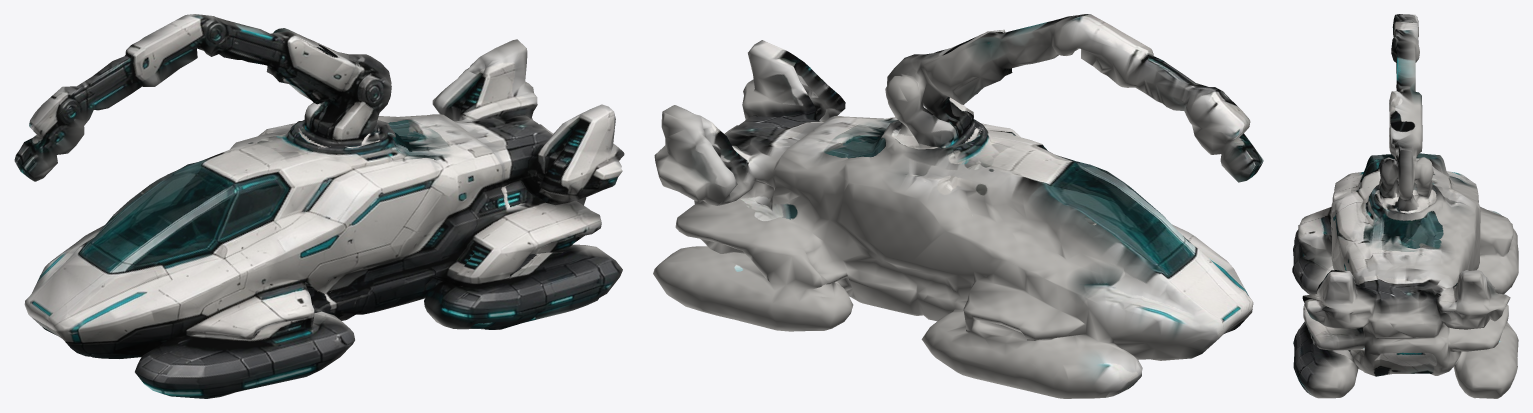
The model's file is wayfarer_lod1.glb.
The picture shows the model from 3 angles, left to right: view 1: azimuth 30°, elevation 25°; view 2: azimuth 150°, elevation 25°; view 3: azimuth 270°, elevation 25°; orthographic projection. The views are drawn at different scales.
Visible parts, largest first — view 1: geometry_0; view 2: geometry_0; view 3: geometry_0.
Boxes of the visible parts, left/top/right/bottom form: geometry_0: left=14, top=14, right=624, bottom=398; geometry_0: left=653, top=14, right=1263, bottom=398; geometry_0: left=1292, top=14, right=1518, bottom=398.
Size of the model in its own units: 2 by 1.12 by 0.9413.
Materials: 1 (1 with a texture image).
